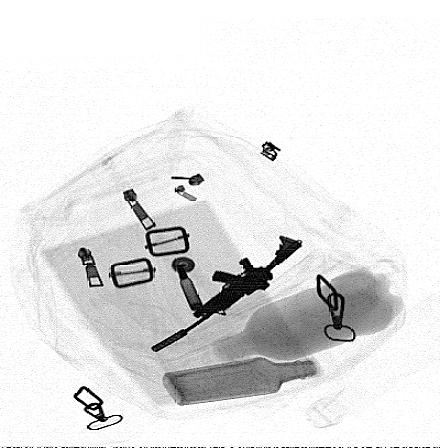Bullet: (177, 264, 203, 310)
Gun: (150, 235, 302, 353)
